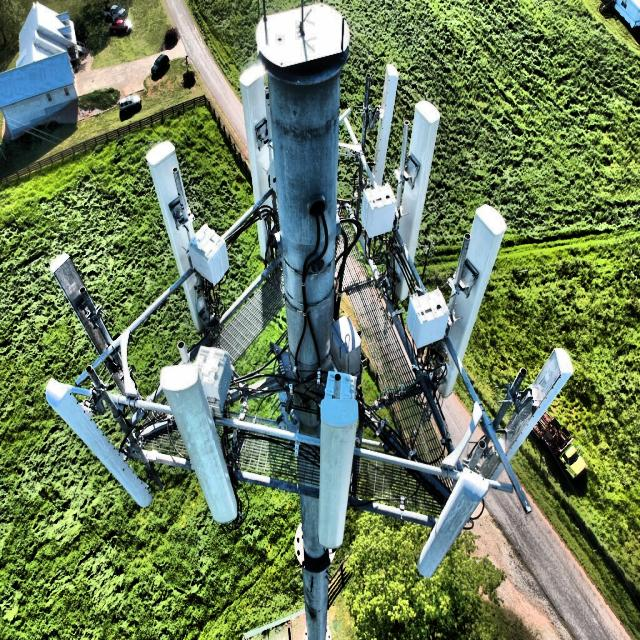antenna: (194, 189, 571, 576), (50, 191, 319, 515), (271, 107, 337, 365), (163, 0, 248, 162), (160, 363, 236, 522), (318, 371, 358, 548), (219, 265, 278, 357), (0, 165, 79, 231), (374, 64, 398, 184), (200, 275, 233, 299)
